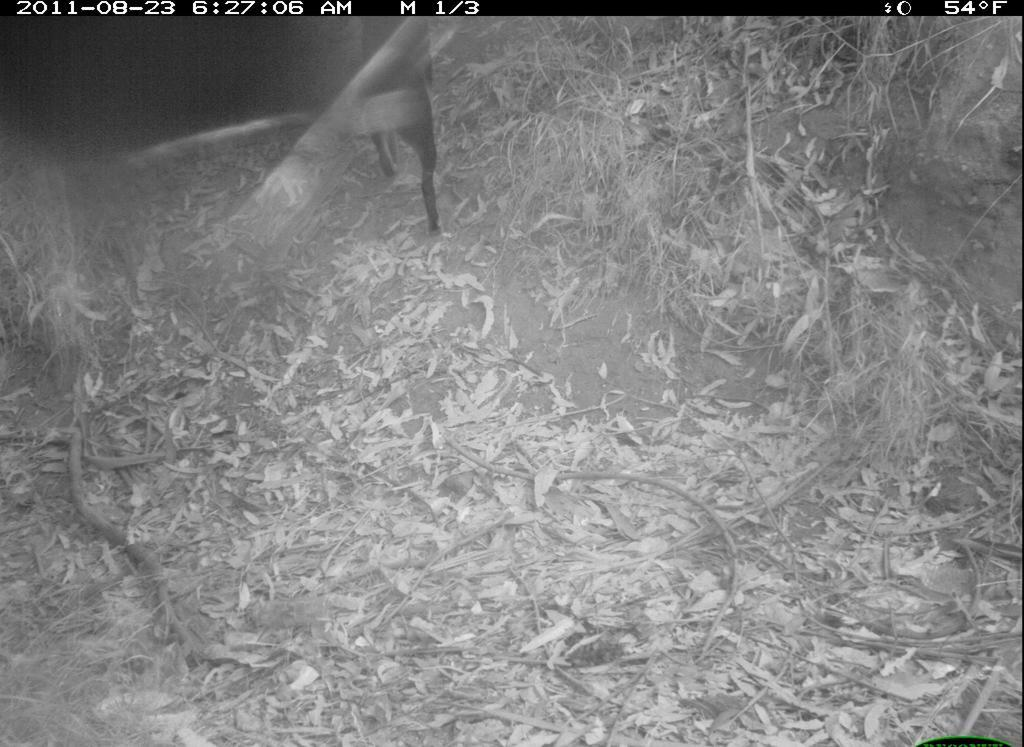dog: (347, 13, 447, 233)
